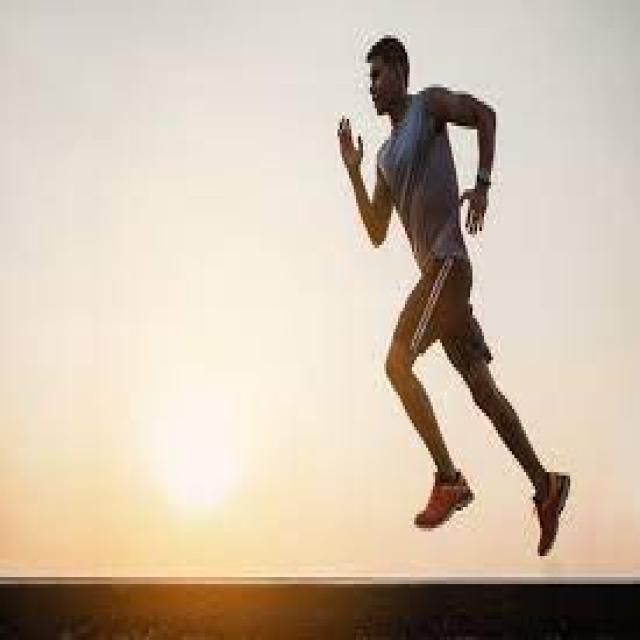Person: (339, 35, 570, 557)
